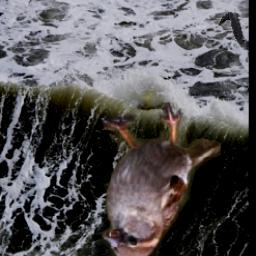Crow: (215, 12, 245, 47)
Sparrow: (101, 104, 220, 256)
